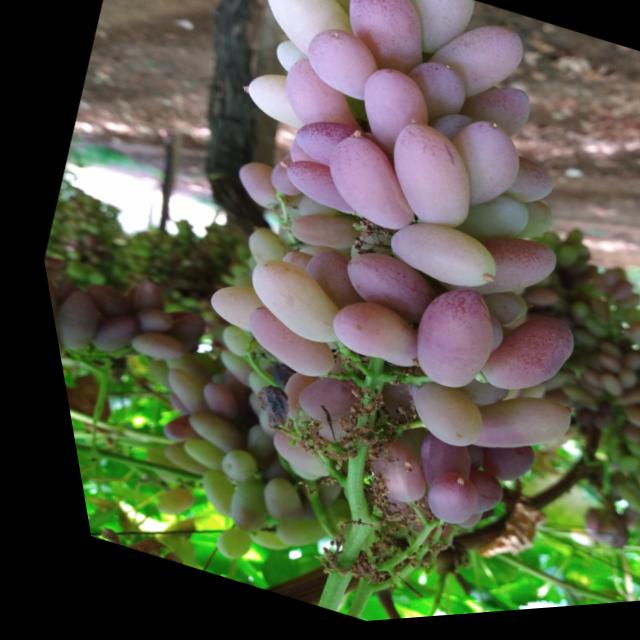grapes: (360, 119, 491, 248), (304, 126, 430, 245), (383, 282, 500, 405), (411, 9, 535, 123), (440, 381, 569, 487), (459, 305, 577, 419), (367, 210, 502, 309), (243, 0, 380, 91), (319, 242, 442, 342), (222, 252, 342, 354), (424, 118, 533, 225), (336, 64, 441, 171), (324, 0, 447, 89), (260, 58, 371, 155), (450, 227, 558, 324), (226, 302, 340, 392), (312, 292, 413, 378), (291, 24, 387, 112), (382, 378, 481, 463), (379, 0, 485, 75), (385, 59, 476, 143), (334, 432, 422, 516), (440, 187, 532, 264), (280, 243, 367, 322), (450, 78, 536, 151), (231, 67, 316, 136), (267, 153, 353, 221), (271, 370, 351, 439), (395, 467, 471, 539), (281, 114, 360, 181), (390, 435, 464, 506), (245, 421, 325, 486), (255, 369, 326, 439), (275, 205, 355, 265), (38, 281, 100, 355), (191, 275, 261, 340), (455, 435, 526, 498), (490, 158, 558, 223), (165, 404, 238, 461), (200, 475, 262, 540), (219, 158, 284, 218), (430, 470, 495, 530), (249, 504, 316, 561), (72, 305, 136, 364), (142, 364, 206, 421), (235, 475, 297, 533), (437, 369, 501, 423), (460, 287, 522, 342), (227, 225, 285, 283), (494, 201, 554, 255), (172, 467, 228, 523), (141, 434, 201, 481), (113, 325, 174, 371), (323, 0, 403, 34), (417, 109, 473, 157), (254, 158, 308, 207), (180, 379, 234, 426), (142, 405, 197, 451), (280, 471, 332, 519), (190, 525, 240, 571), (266, 38, 315, 84), (218, 424, 264, 473), (134, 482, 182, 526), (198, 446, 246, 489), (199, 350, 248, 392), (161, 435, 210, 476), (226, 520, 276, 560), (202, 322, 249, 364), (227, 369, 276, 408), (235, 406, 274, 447), (264, 247, 309, 281), (595, 388, 638, 422), (37, 271, 60, 326), (599, 427, 634, 455), (579, 378, 613, 406), (601, 411, 636, 438), (608, 474, 640, 503), (43, 318, 62, 364), (434, 511, 465, 538), (596, 286, 625, 313), (554, 305, 583, 332), (149, 391, 177, 415), (618, 501, 640, 531), (621, 353, 640, 386), (554, 234, 577, 256), (632, 484, 640, 514), (633, 413, 640, 444), (313, 0, 351, 2)
